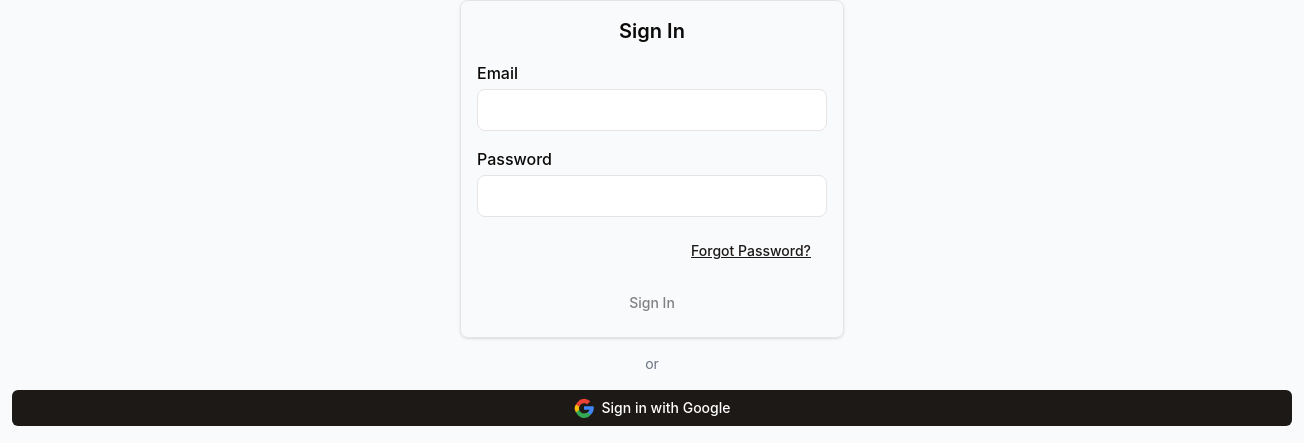
LoginForm › disables submit button if fields are empty
Expected: the button with test id "login-submit" is disabled, x1=477 y1=285 x2=827 y2=321
In the field labelled "Email": x=652, y=110 x1=477 y1=89 x2=827 y2=131, type "test@example.com"
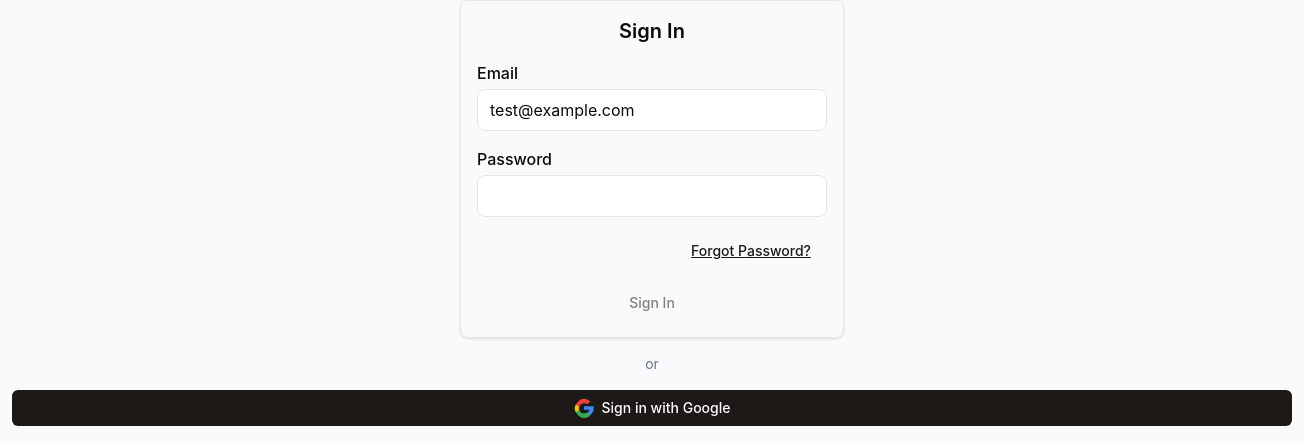
Expected: the button with test id "login-submit" is disabled, x1=477 y1=285 x2=827 y2=321
In the password field labelled "Password": x=652, y=196 x1=477 y1=175 x2=827 y2=217, type "password123"
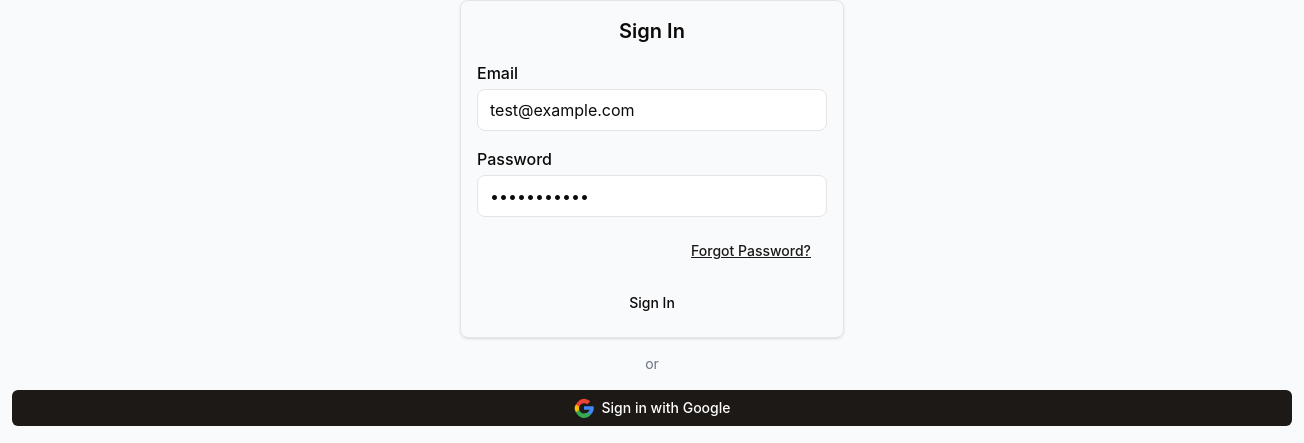
Now the button with test id "login-submit" is enabled, box x1=477 y1=285 x2=827 y2=321
